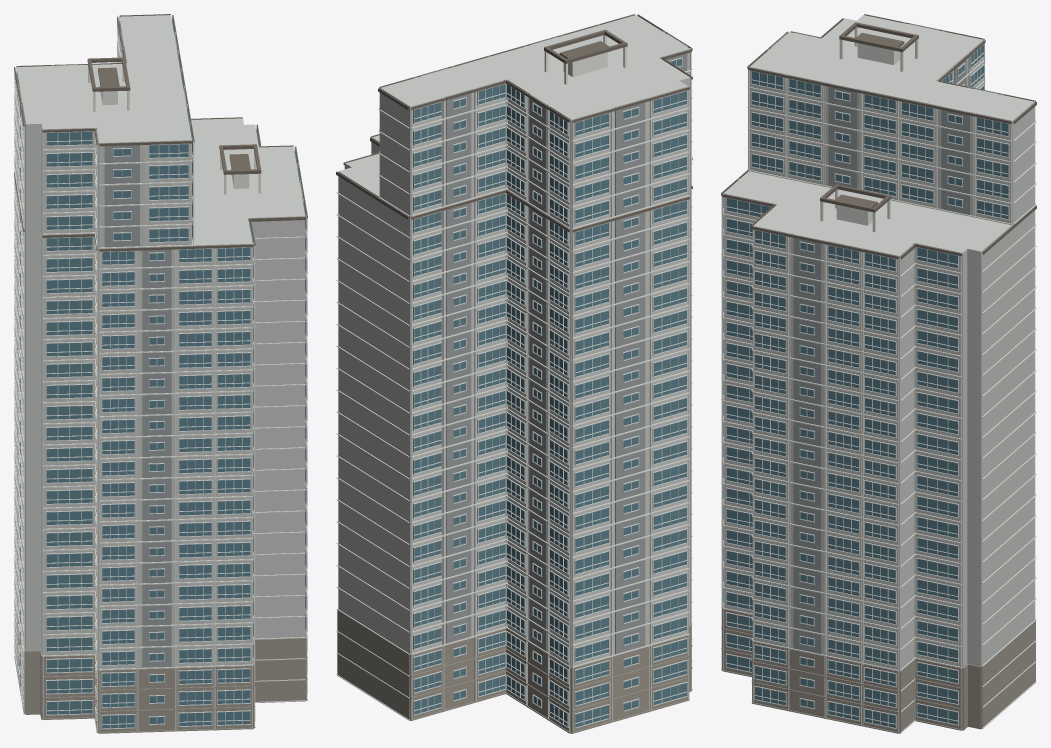
Rendered from bespoke-banpo-xi-111.glb.
3 renders of one model, left to right at view 1: azimuth 30°, elevation 25°; view 2: azimuth 150°, elevation 25°; view 3: azimuth 270°, elevation 25°, orthographic. The views are drawn at different scales.
Parts seen in each view (by area): view 1: BX111_editable_BX111_pale_silver_limestone, BX111_editable_BX111_blue_grey_broad_glazing, BX111_editable_BX111_white_window_frames, BX111_editable_BX111_ivory_course_bands, BX111_editable_BX111_grey_service_core, BX111_editable_BX111_warm_ground_stone, BX111_editable_BX111_dark_coping; view 2: BX111_editable_BX111_pale_silver_limestone, BX111_editable_BX111_blue_grey_broad_glazing, BX111_editable_BX111_white_window_frames, BX111_editable_BX111_ivory_course_bands, BX111_editable_BX111_grey_service_core, BX111_editable_BX111_warm_ground_stone, BX111_editable_BX111_dark_coping; view 3: BX111_editable_BX111_pale_silver_limestone, BX111_editable_BX111_blue_grey_broad_glazing, BX111_editable_BX111_white_window_frames, BX111_editable_BX111_ivory_course_bands, BX111_editable_BX111_grey_service_core, BX111_editable_BX111_warm_ground_stone, BX111_editable_BX111_dark_coping.
Part boxes in pixels (x1=…): BX111_editable_BX111_pale_silver_limestone: x1=16, y1=15, x2=305, y2=669; BX111_editable_BX111_blue_grey_broad_glazing: x1=16, y1=18, x2=306, y2=728; BX111_editable_BX111_white_window_frames: x1=14, y1=20, x2=307, y2=729; BX111_editable_BX111_ivory_course_bands: x1=14, y1=15, x2=307, y2=732; BX111_editable_BX111_grey_service_core: x1=19, y1=34, x2=303, y2=667; BX111_editable_BX111_warm_ground_stone: x1=14, y1=614, x2=307, y2=733; BX111_editable_BX111_dark_coping: x1=14, y1=14, x2=307, y2=251; BX111_editable_BX111_pale_silver_limestone: x1=338, y1=15, x2=690, y2=667; BX111_editable_BX111_blue_grey_broad_glazing: x1=413, y1=58, x2=686, y2=727; BX111_editable_BX111_white_window_frames: x1=413, y1=57, x2=687, y2=728; BX111_editable_BX111_ivory_course_bands: x1=336, y1=14, x2=692, y2=732; BX111_editable_BX111_grey_service_core: x1=421, y1=33, x2=687, y2=654; BX111_editable_BX111_warm_ground_stone: x1=337, y1=610, x2=692, y2=733; BX111_editable_BX111_dark_coping: x1=336, y1=14, x2=692, y2=232; BX111_editable_BX111_pale_silver_limestone: x1=723, y1=15, x2=1034, y2=732; BX111_editable_BX111_blue_grey_broad_glazing: x1=723, y1=45, x2=1008, y2=727; BX111_editable_BX111_white_window_frames: x1=723, y1=43, x2=1009, y2=728; BX111_editable_BX111_ivory_course_bands: x1=721, y1=14, x2=1036, y2=732; BX111_editable_BX111_grey_service_core: x1=771, y1=24, x2=997, y2=654; BX111_editable_BX111_warm_ground_stone: x1=721, y1=608, x2=1035, y2=733; BX111_editable_BX111_dark_coping: x1=721, y1=14, x2=1036, y2=259.
Bounding box in the file's own units: 39.22 × 79.3 × 37.6.
